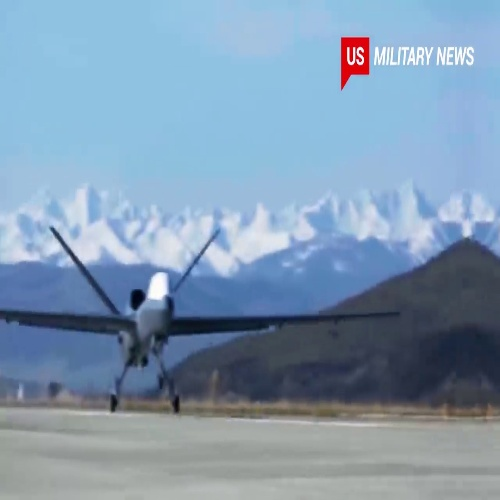uav625: (1, 225, 401, 414)
